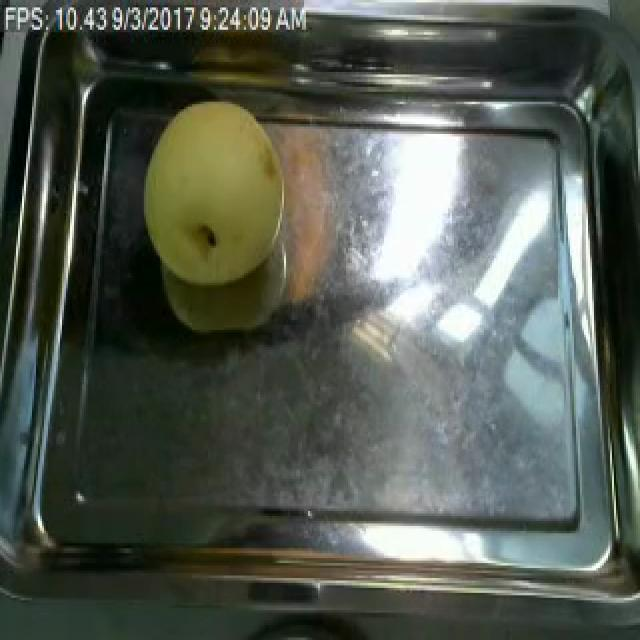Fruit: (128, 89, 290, 303)
